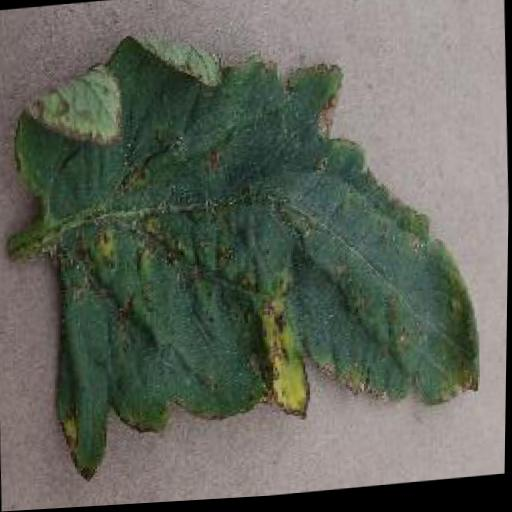Bacterial Spot: (4, 0, 490, 485)
